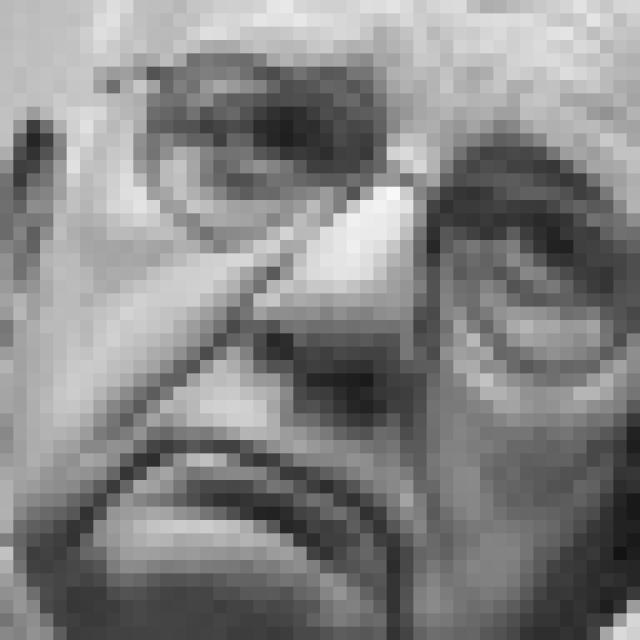sad: (55, 25, 629, 640)
